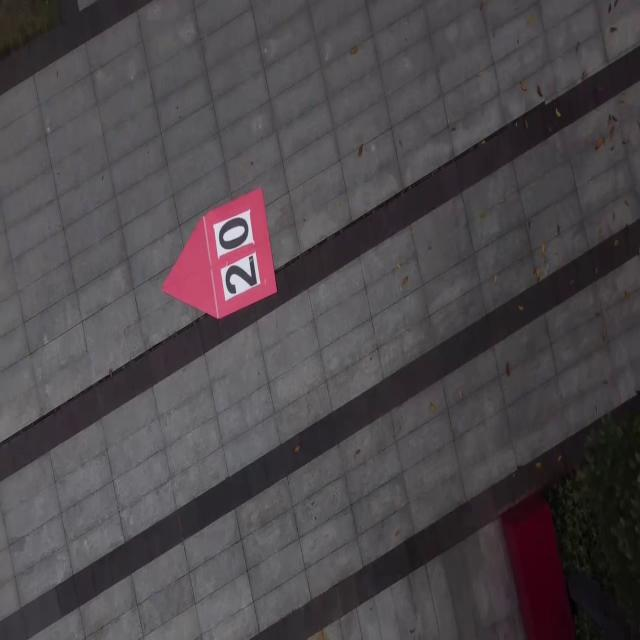-sign-: (162, 185, 278, 321)
